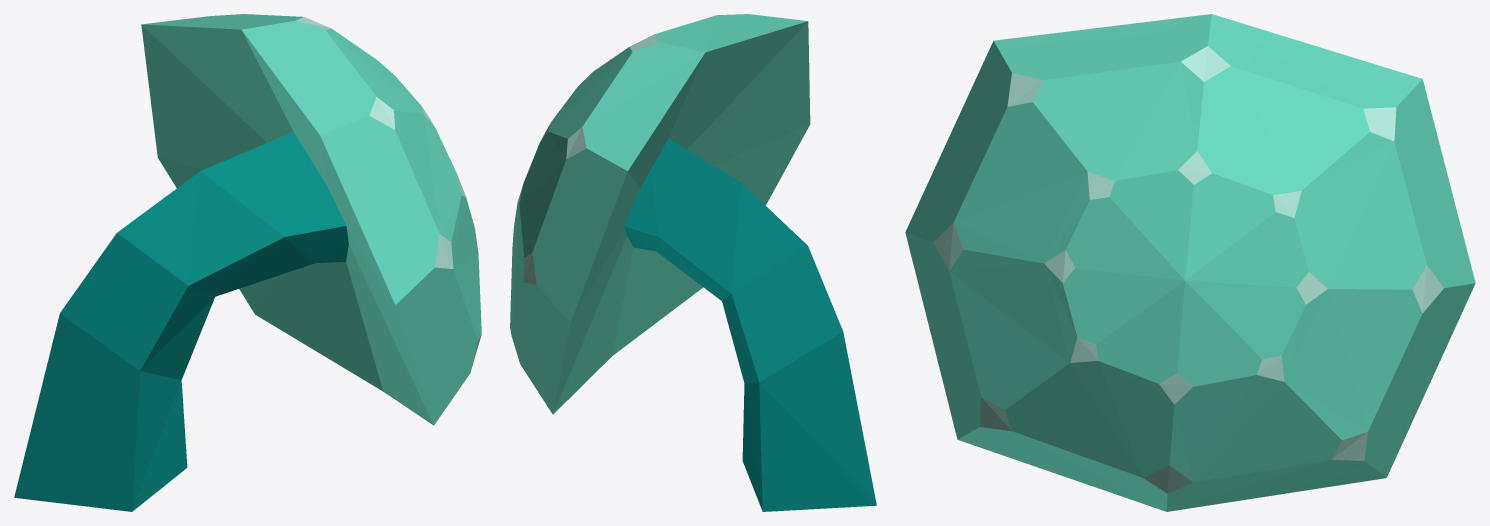
File: Mushrooms_02.glb
3 views of the same model, side by side, from view 1: azimuth 30°, elevation 25°; view 2: azimuth 150°, elevation 25°; view 3: azimuth 270°, elevation 25° (orthographic). The views are drawn at different scales.
Visible parts, largest first — view 1: Mushrooms_02; view 2: Mushrooms_02; view 3: Mushrooms_02.
Part boxes in pixels (bbox=[...]): Mushrooms_02: bbox=[14, 14, 481, 511]; Mushrooms_02: bbox=[510, 14, 876, 511]; Mushrooms_02: bbox=[905, 14, 1475, 511].
Size of the model in its own units: 0.4403 by 0.458 by 0.4775.
1 material, 1 textured.
